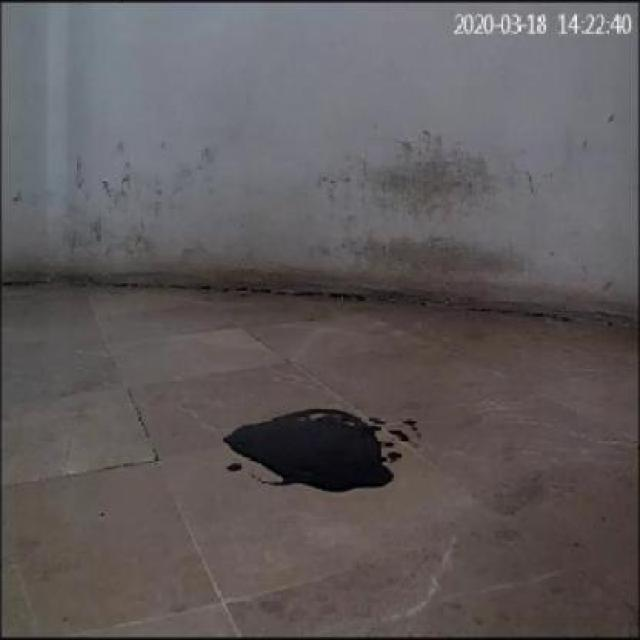spillage: (223, 405, 403, 490)
